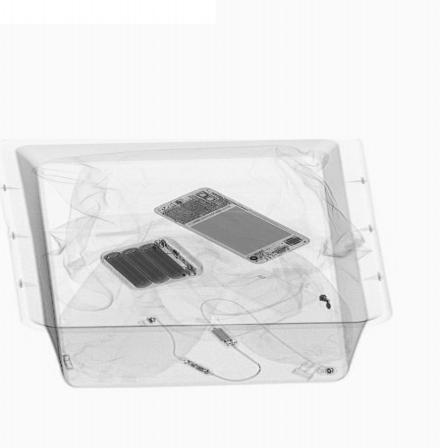Powerbank: (99, 238, 202, 290)
